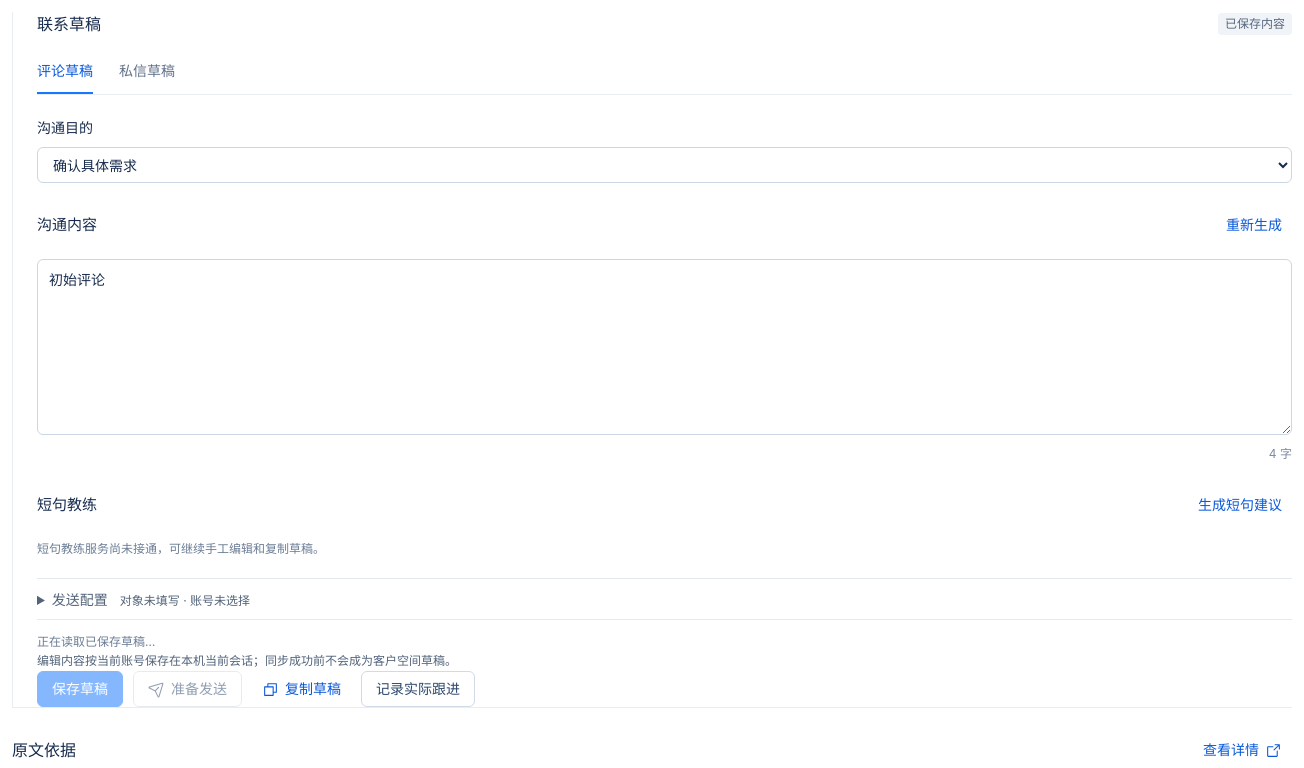
Test: ordinary client contact draft persistence › never overwrites typing with a late read and only adopts it explicitly
Replace the text in the text box named "沟通内容" with "读取期间人工编辑" at point(664, 347), box [37,259,1292,435]
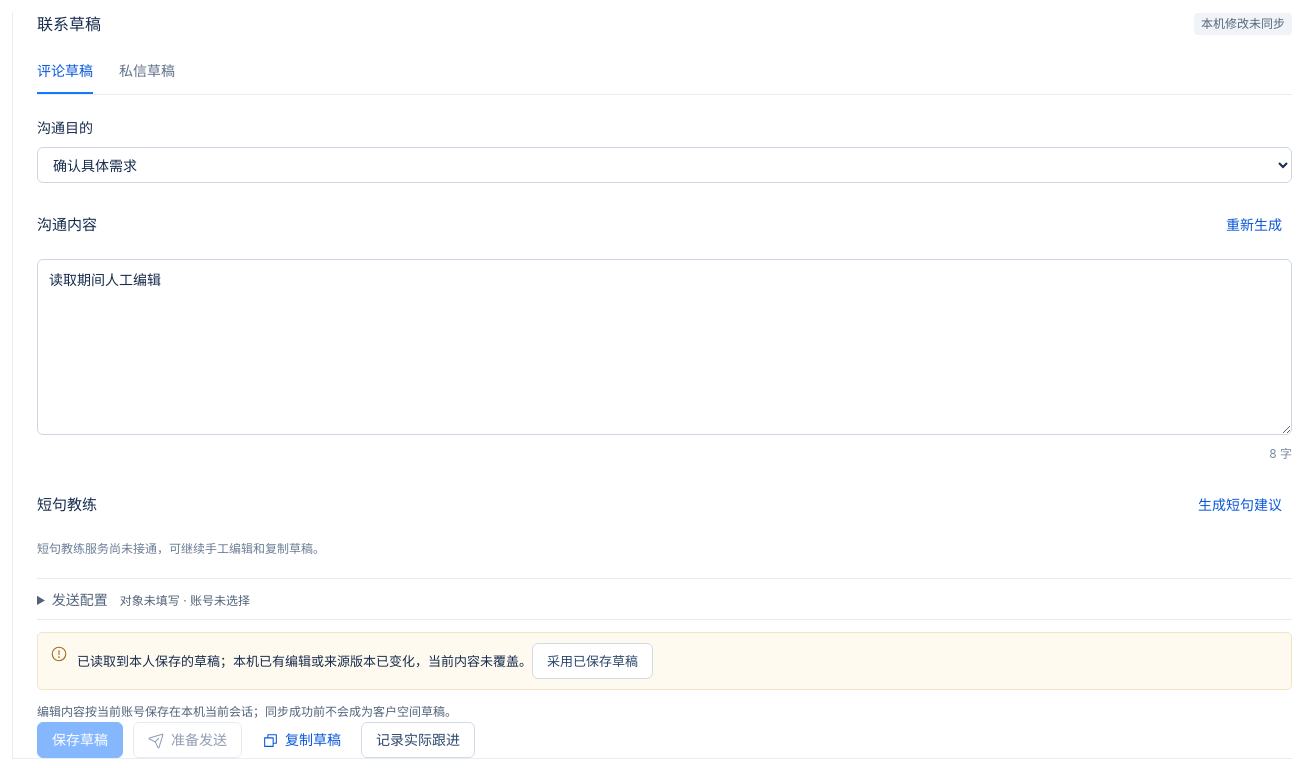
Click the button "采用已保存草稿" at point(592, 661), box [532,643,653,679]
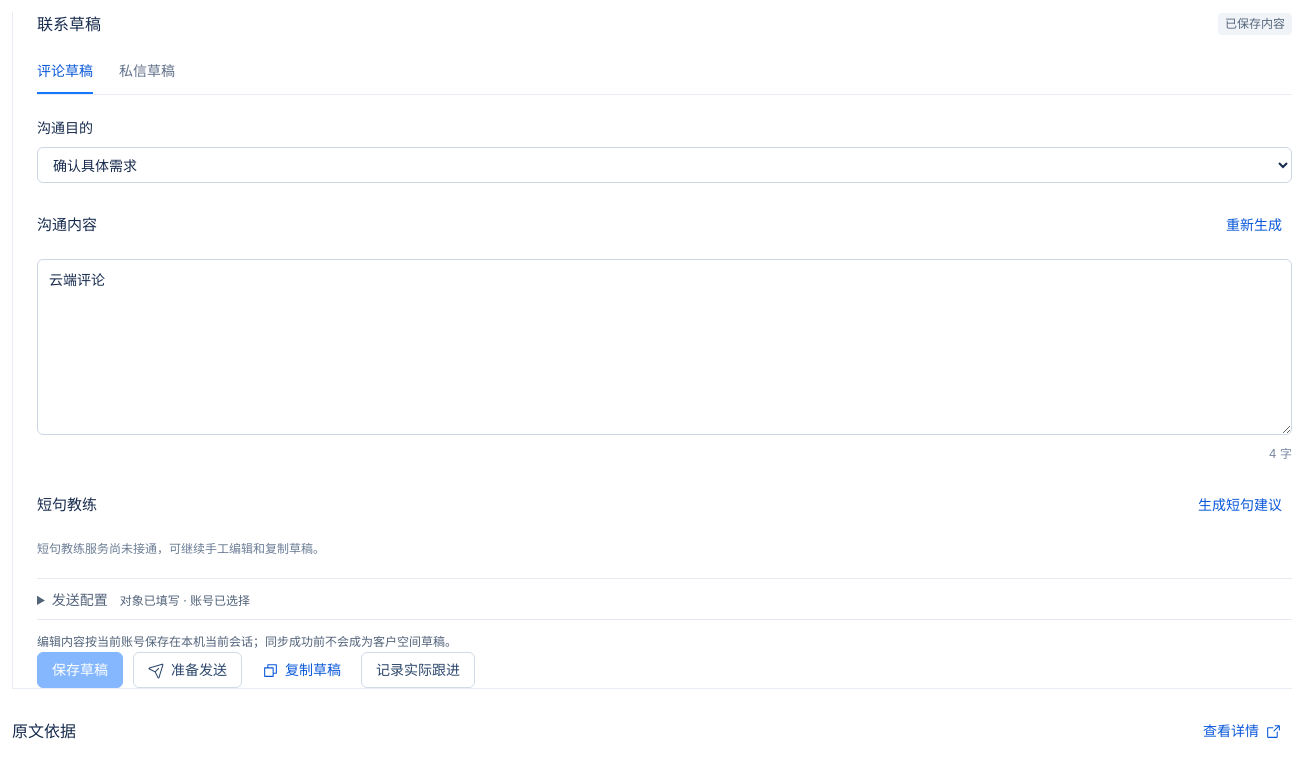
Expected: the text box named "沟通内容" holds "云端评论", [37,259,1292,435]
